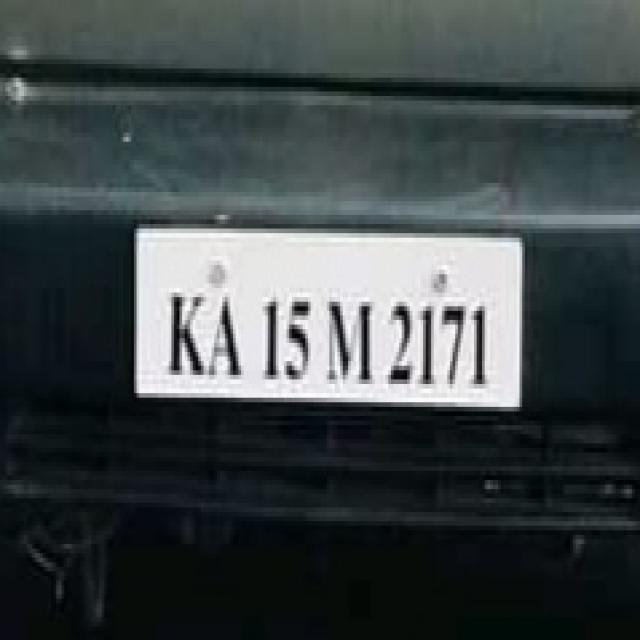1: (258, 288, 282, 384), (470, 302, 492, 393), (418, 296, 438, 394)
5: (283, 286, 315, 384)
7: (437, 291, 469, 388)
A: (208, 280, 246, 396)
K: (162, 280, 210, 389)
M: (323, 287, 376, 387)
